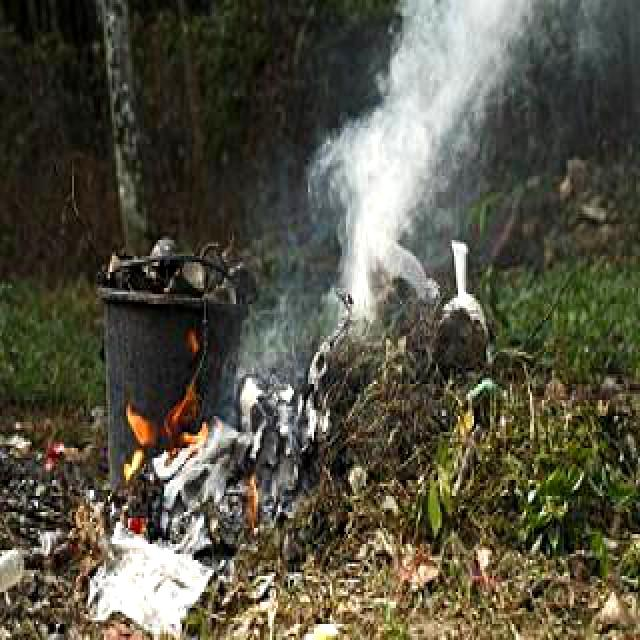Fire: (122, 324, 220, 490)
Smoke: (316, 0, 557, 328)
